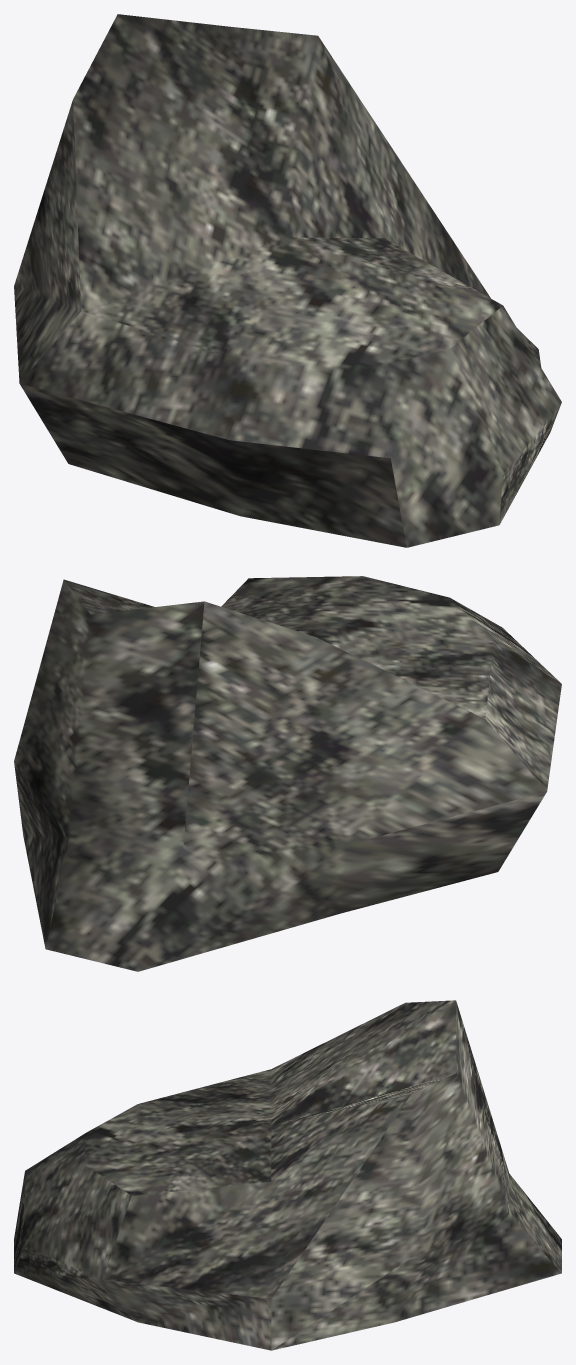
File: shoreline_large_0.glb
The picture shows the model from 3 angles, top to bottom: view 1: azimuth 30°, elevation 25°; view 2: azimuth 150°, elevation 25°; view 3: azimuth 270°, elevation 25°; orthographic projection. The views are drawn at different scales.
Visible parts, largest first — view 1: shoreline_large_0; view 2: shoreline_large_0; view 3: shoreline_large_0.
Boxes of the visible parts, box(x1,y1,x2,y2) form: shoreline_large_0: box(14, 14, 561, 547); shoreline_large_0: box(14, 576, 561, 971); shoreline_large_0: box(14, 1000, 561, 1350).
Bounding box in the file's own units: 1.83 × 1.08 × 2.22.
Materials: 1 (1 with a texture image).
